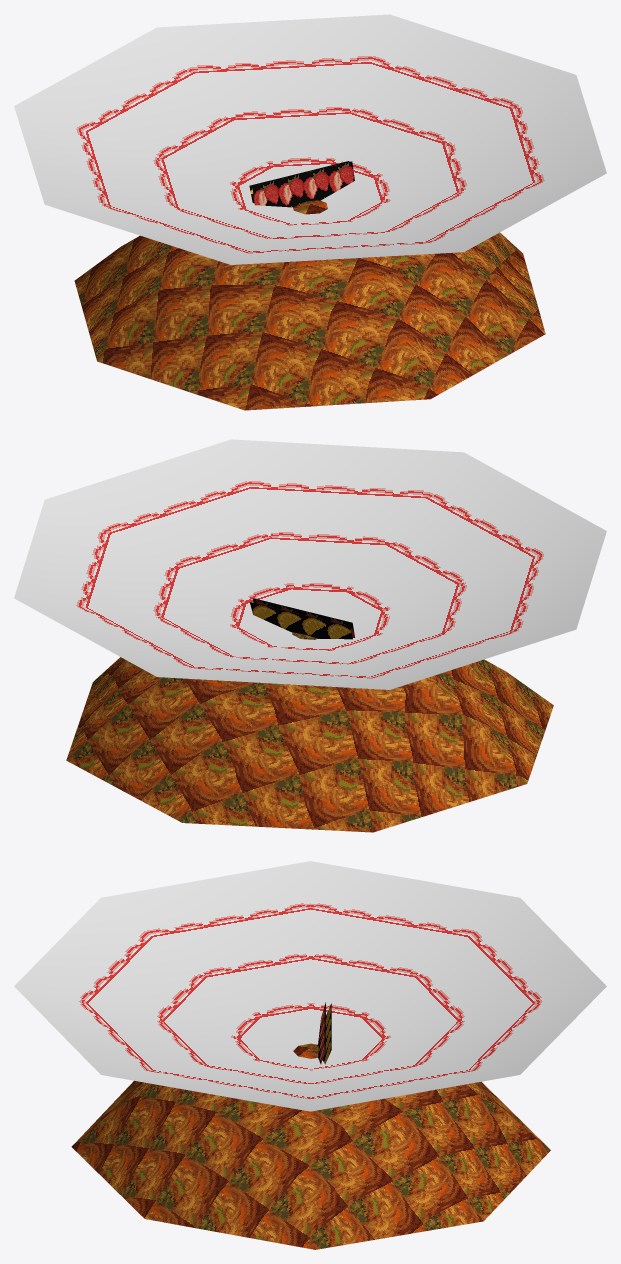
File: 5560u_yksb00_ss.gltf
3 views of the same model, one above another, from view 1: azimuth 30°, elevation 25°; view 2: azimuth 150°, elevation 25°; view 3: azimuth 270°, elevation 25° (orthographic). The views are drawn at different scales.
Parts seen in each view (by area): view 1: 5560u_yksb00_ss; view 2: 5560u_yksb00_ss; view 3: 5560u_yksb00_ss.
Boxes of the visible parts, x1,y1,x2,y2 form: 5560u_yksb00_ss: (14, 14, 606, 410); 5560u_yksb00_ss: (14, 439, 606, 832); 5560u_yksb00_ss: (14, 861, 606, 1249).
Size of the model in its own units: 0.8994 by 0.2715 by 0.8994.
5 materials, 5 textured.
